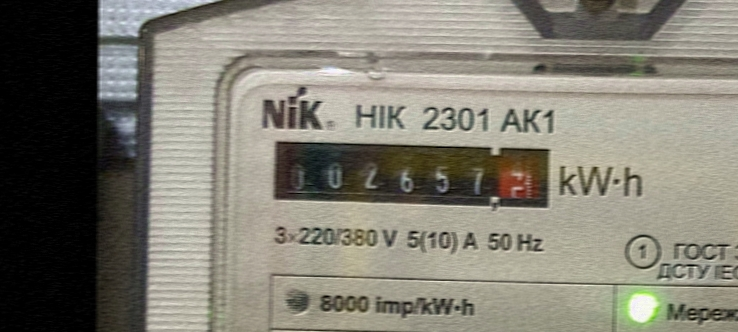0: (291, 159, 308, 188), (329, 157, 344, 188)
2: (365, 158, 381, 188)
4: (511, 153, 526, 178)
5: (436, 161, 452, 192), (512, 182, 527, 196)
6: (401, 161, 416, 191)
7: (472, 162, 487, 194)
screen: (267, 128, 562, 217)
